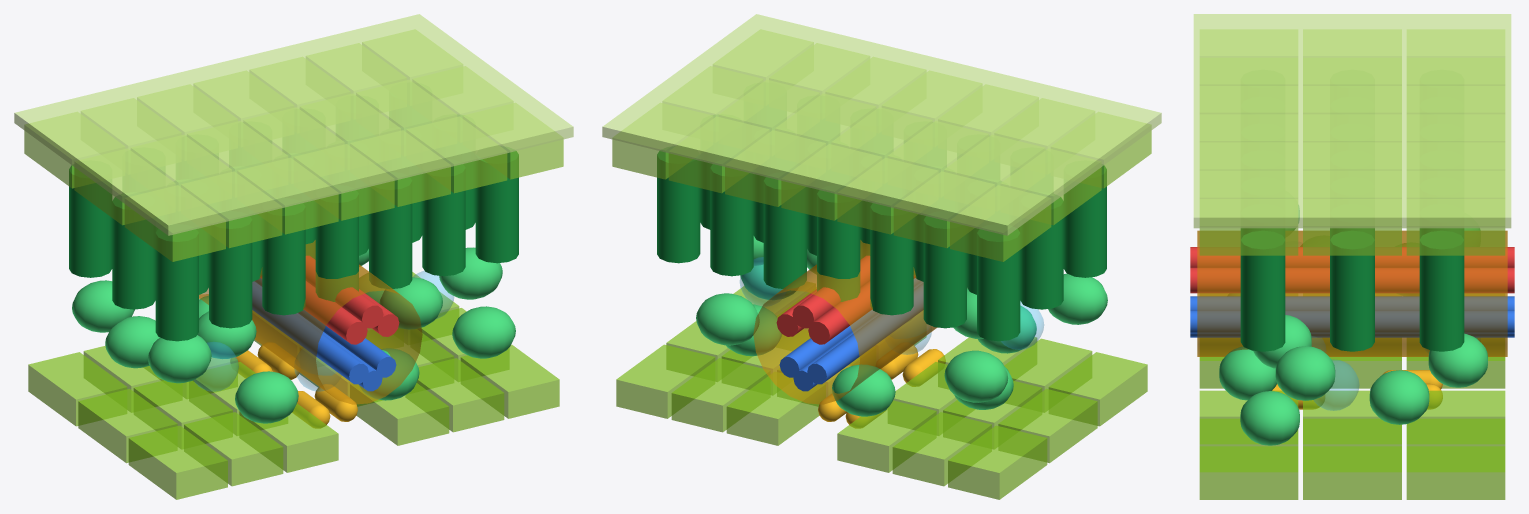
File: leaf.glb
3 renders of one model, left to right at view 1: azimuth 30°, elevation 25°; view 2: azimuth 150°, elevation 25°; view 3: azimuth 270°, elevation 25°, orthographic. The views are drawn at different scales.
Parts seen in each view (by area): view 1: part_upper-epidermis, part_cuticle, part_palisade-mesophyll, part_lower-epidermis, part_spongy-mesophyll, part_bundle-sheath, part_phloem, part_xylem, part_stomata, part_air-spaces; view 2: part_upper-epidermis, part_cuticle, part_lower-epidermis, part_palisade-mesophyll, part_spongy-mesophyll, part_bundle-sheath, part_phloem, part_xylem, part_air-spaces, part_stomata; view 3: part_cuticle, part_upper-epidermis, part_lower-epidermis, part_bundle-sheath, part_palisade-mesophyll, part_spongy-mesophyll, part_xylem, part_phloem, part_air-spaces, part_stomata.
Part boxes in pixels (x1,y1,x2,y2): part_upper-epidermis: [24, 30, 563, 261]; part_cuticle: [14, 14, 573, 235]; part_palisade-mesophyll: [69, 151, 518, 341]; part_lower-epidermis: [28, 272, 559, 499]; part_spongy-mesophyll: [72, 247, 515, 423]; part_bundle-sheath: [199, 240, 422, 404]; part_phloem: [252, 278, 396, 391]; part_xylem: [260, 255, 399, 344]; part_stomata: [230, 343, 357, 428]; part_air-spaces: [194, 271, 453, 391]; part_upper-epidermis: [612, 30, 1151, 261]; part_cuticle: [602, 14, 1161, 235]; part_lower-epidermis: [616, 286, 1147, 499]; part_palisade-mesophyll: [657, 151, 1106, 341]; part_spongy-mesophyll: [696, 236, 1107, 416]; part_bundle-sheath: [753, 240, 937, 404]; part_phloem: [779, 278, 923, 391]; part_xylem: [776, 255, 915, 344]; part_air-spaces: [740, 257, 1043, 354]; part_stomata: [818, 345, 945, 428]; part_cuticle: [1193, 14, 1511, 228]; part_upper-epidermis: [1199, 30, 1505, 255]; part_lower-epidermis: [1199, 338, 1505, 499]; part_bundle-sheath: [1197, 230, 1507, 356]; part_palisade-mesophyll: [1240, 228, 1464, 351]; part_spongy-mesophyll: [1219, 205, 1487, 445]; part_xylem: [1190, 247, 1514, 293]; part_phloem: [1190, 296, 1514, 337]; part_air-spaces: [1312, 337, 1359, 410]; part_stomata: [1272, 370, 1442, 409].
Bounding box in the file's own units: 2.05 × 1.35 × 1.38.
